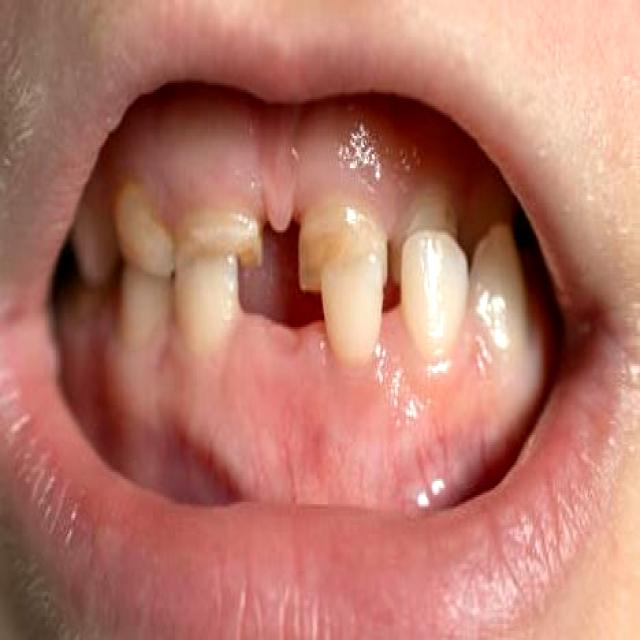hypodontia: (220, 264, 357, 378), (232, 176, 322, 287), (366, 238, 421, 384)
